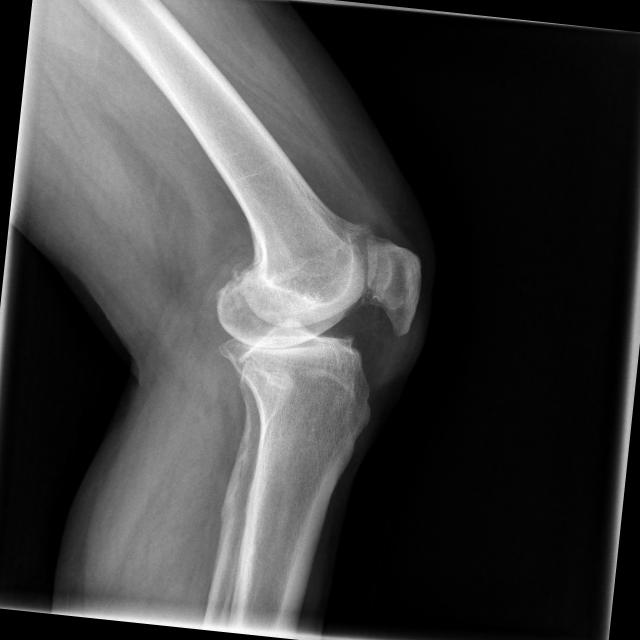Knee: (188, 220, 424, 428)
